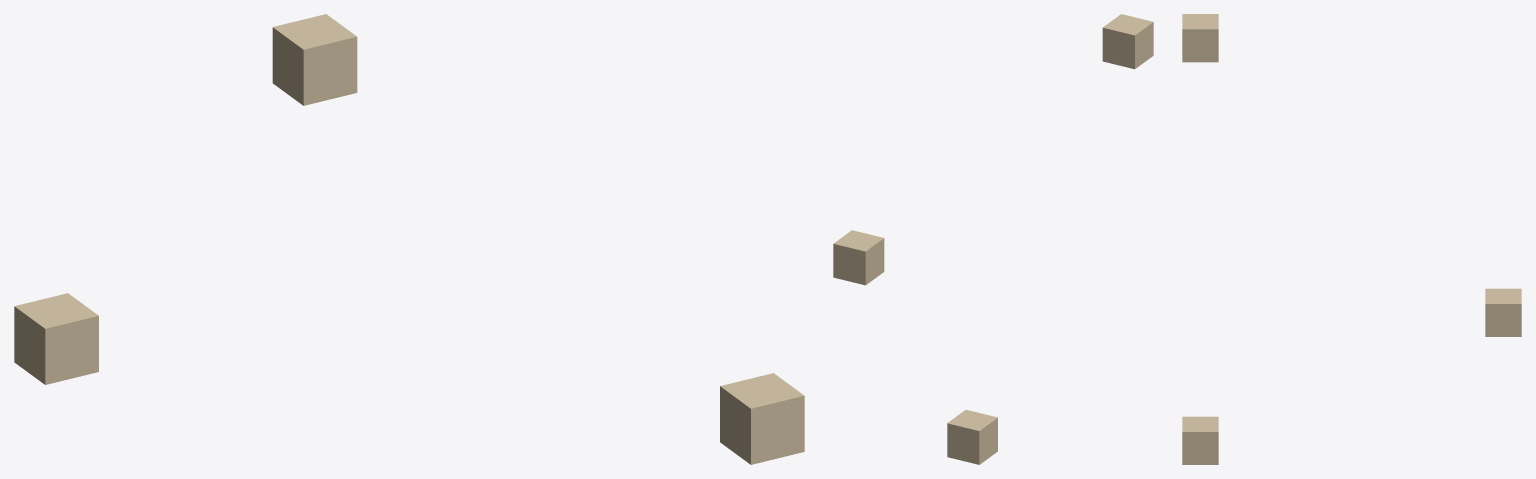
The model's file is axis_test_02.glb.
The picture shows the model from 3 angles, left to right: view 1: azimuth 30°, elevation 25°; view 2: azimuth 150°, elevation 25°; view 3: azimuth 270°, elevation 25°; orthographic projection. The views are drawn at different scales.
Parts seen in each view (by area): view 1: Axis_PosZ, Axis_PosX, Axis_PosY; view 2: Axis_PosX, Axis_PosZ, Axis_PosY; view 3: Axis_PosX, Axis_PosY, Axis_PosZ.
Boxes of the visible parts, x1=… form: Axis_PosZ: x1=272, y1=14, x2=357, y2=105; Axis_PosX: x1=720, y1=373, x2=804, y2=464; Axis_PosY: x1=14, y1=293, x2=98, y2=384; Axis_PosX: x1=833, y1=230, x2=884, y2=285; Axis_PosZ: x1=1102, y1=14, x2=1153, y2=69; Axis_PosY: x1=947, y1=409, x2=997, y2=464; Axis_PosX: x1=1182, y1=416, x2=1218, y2=464; Axis_PosY: x1=1485, y1=288, x2=1521, y2=336; Axis_PosZ: x1=1182, y1=14, x2=1218, y2=62.
Size of the model in its own units: 1.12 by 1.12 by 1.12.
